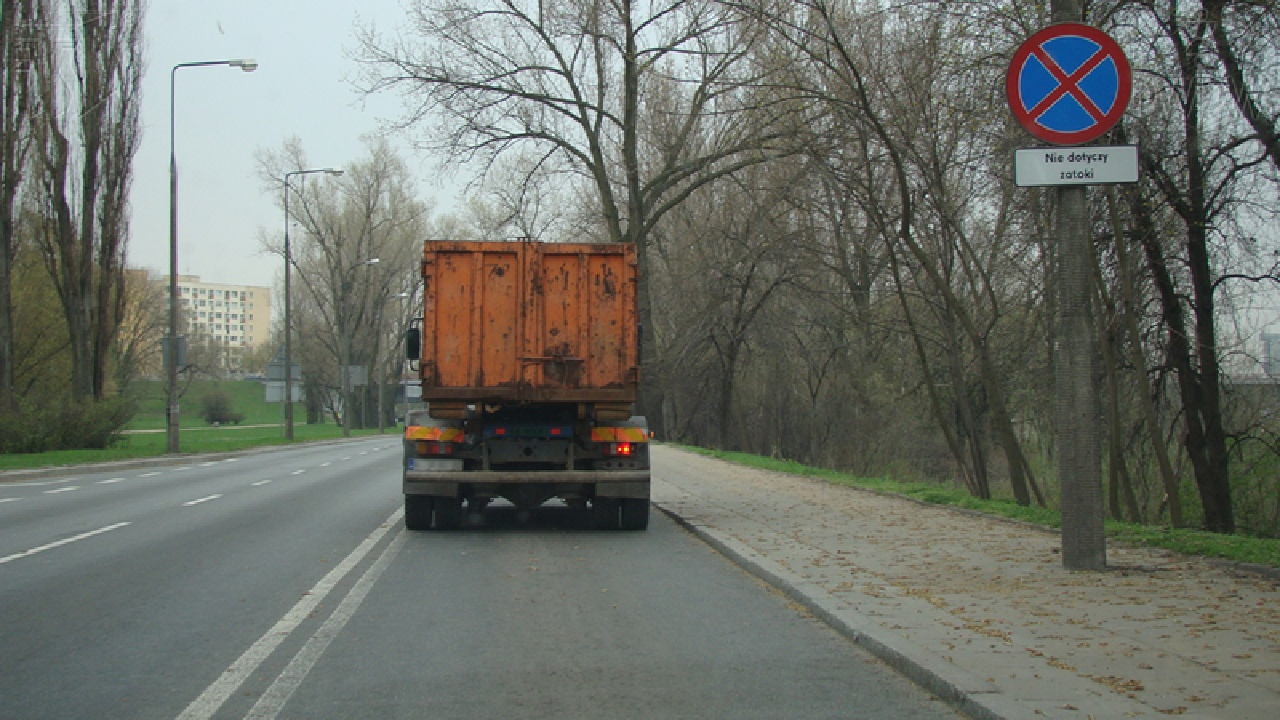B36: (1007, 22, 1131, 148)
